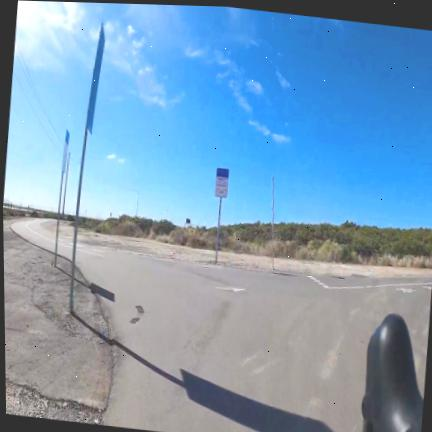Bike_Lane: (76, 241, 432, 432), (11, 219, 55, 252)
Bike_Sign: (215, 168, 229, 264)
